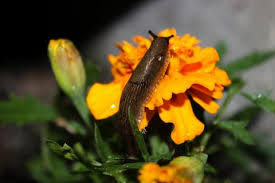slug: (120, 29, 174, 134)
